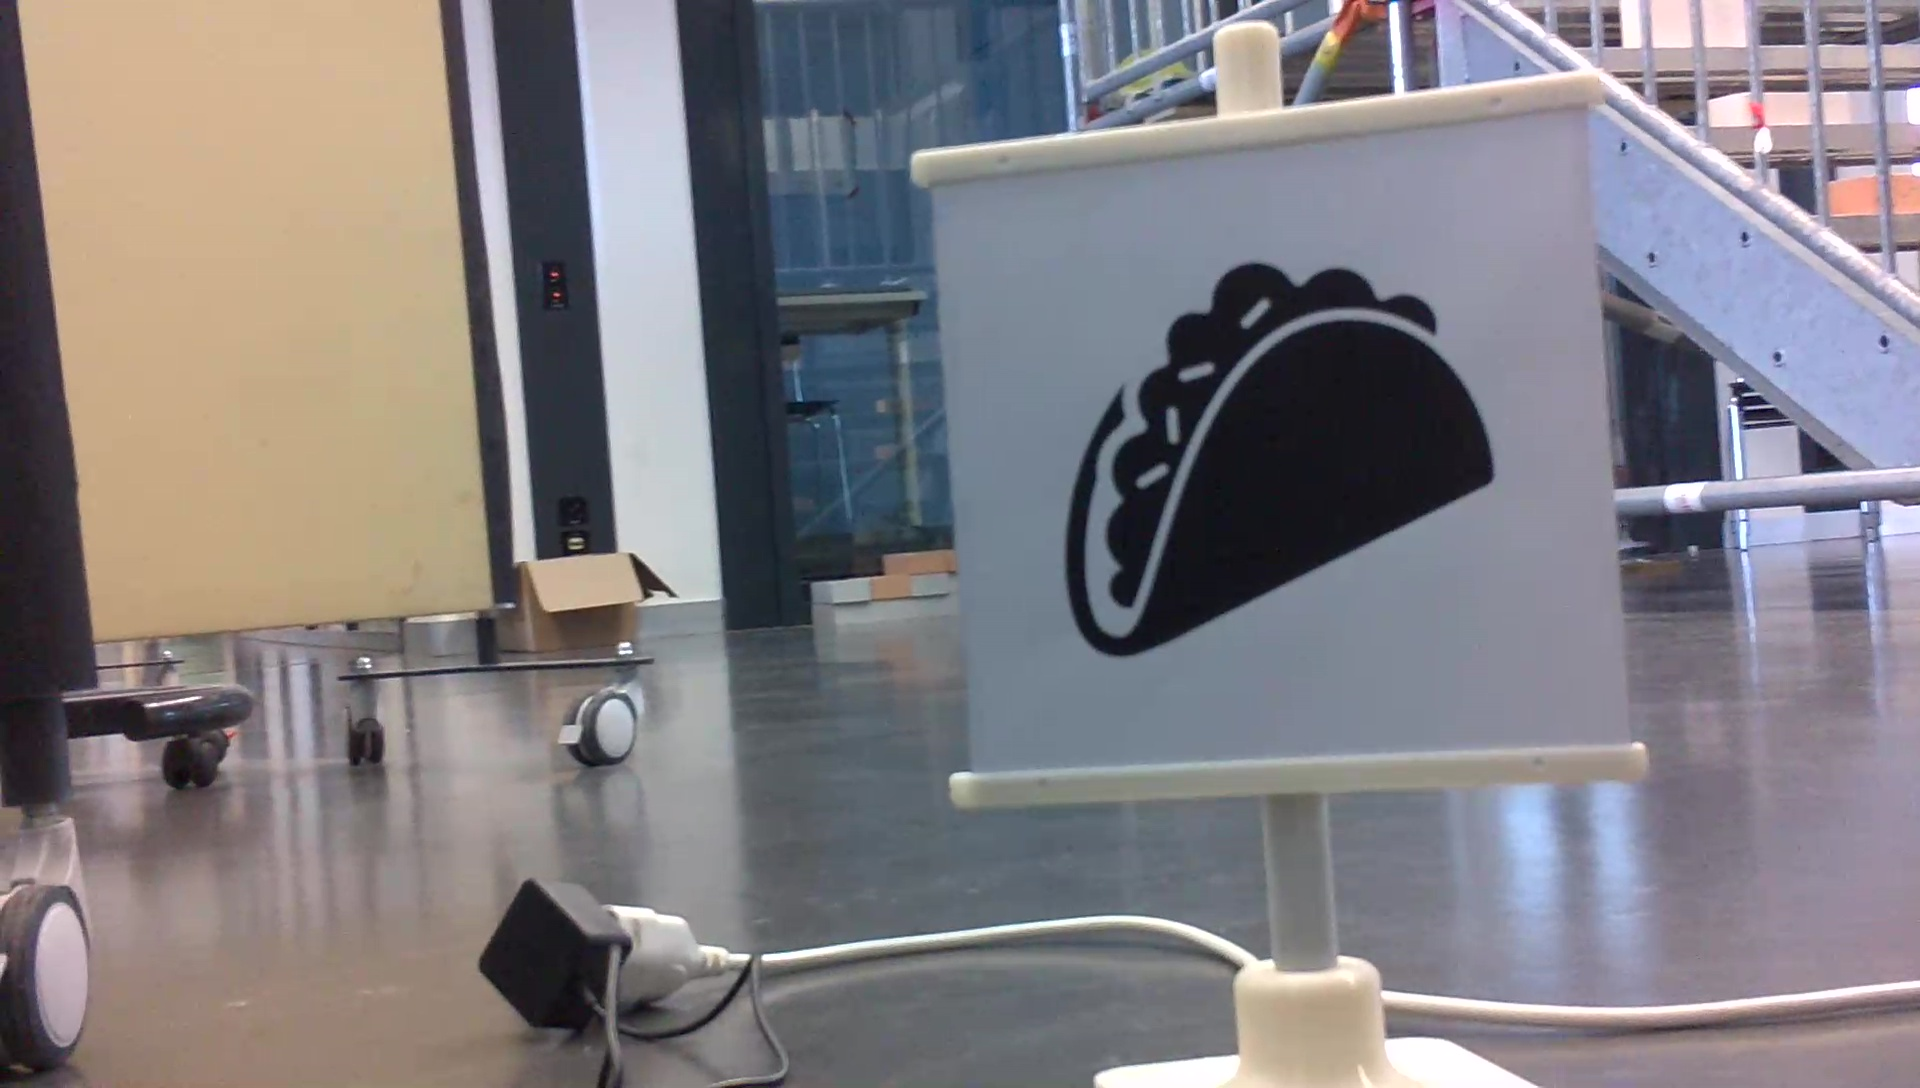taco: (1054, 255, 1502, 663)
